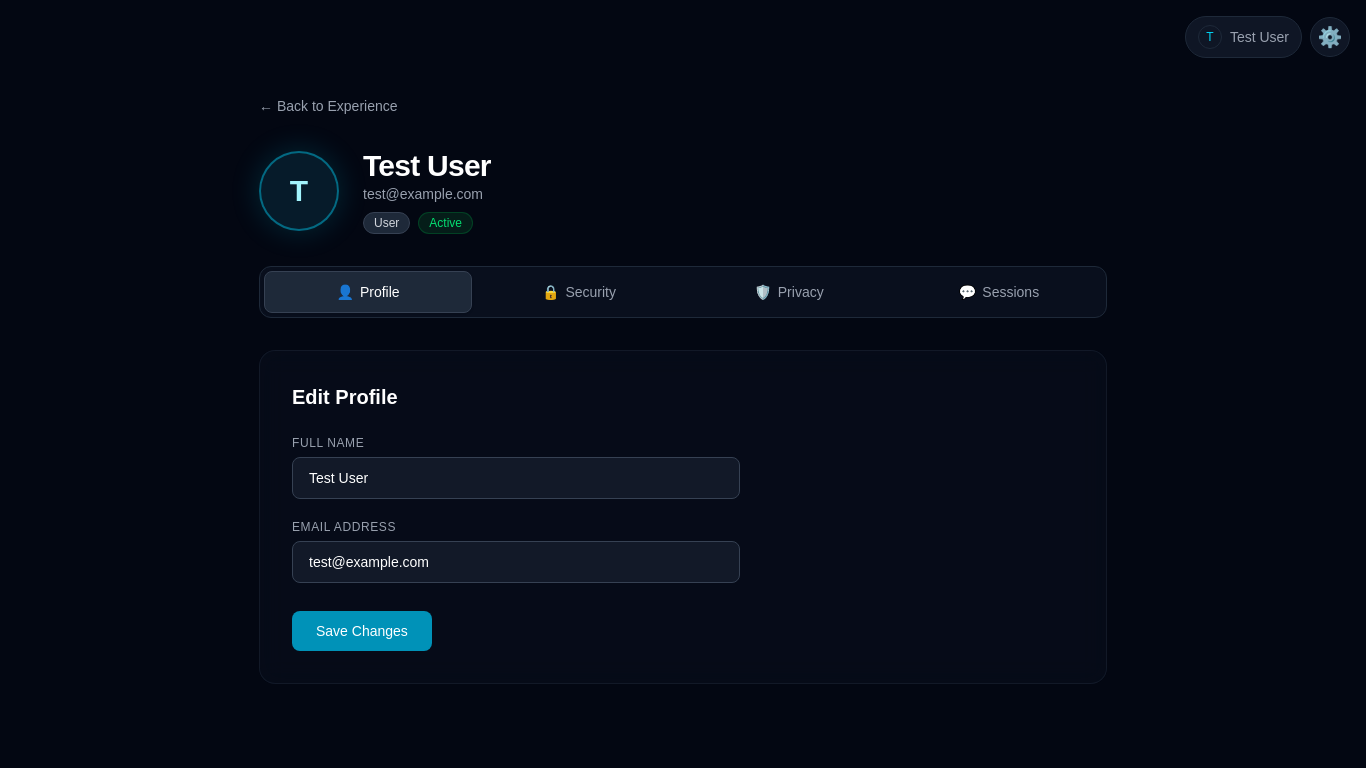
UserProfilePage › renders empty state when no sessions found
This screenshot has width=1366, height=768.
// Click Sessions tab
Click the button "💬Sessions". click: [999, 292]
box: [896, 271, 1102, 313]
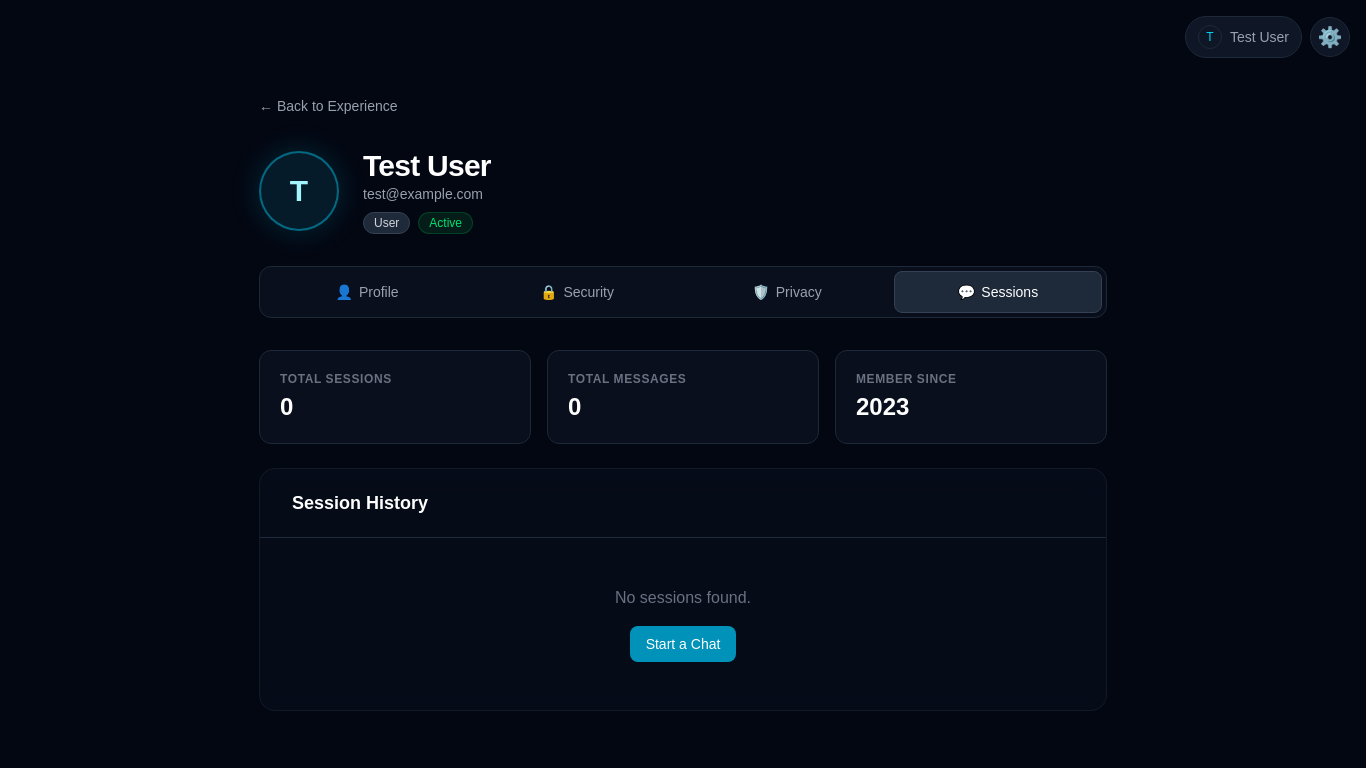
Now the text "No sessions found." is shown, box [615, 586, 751, 610]
Now the link "Start a Chat" is shown, box [630, 626, 736, 662]
